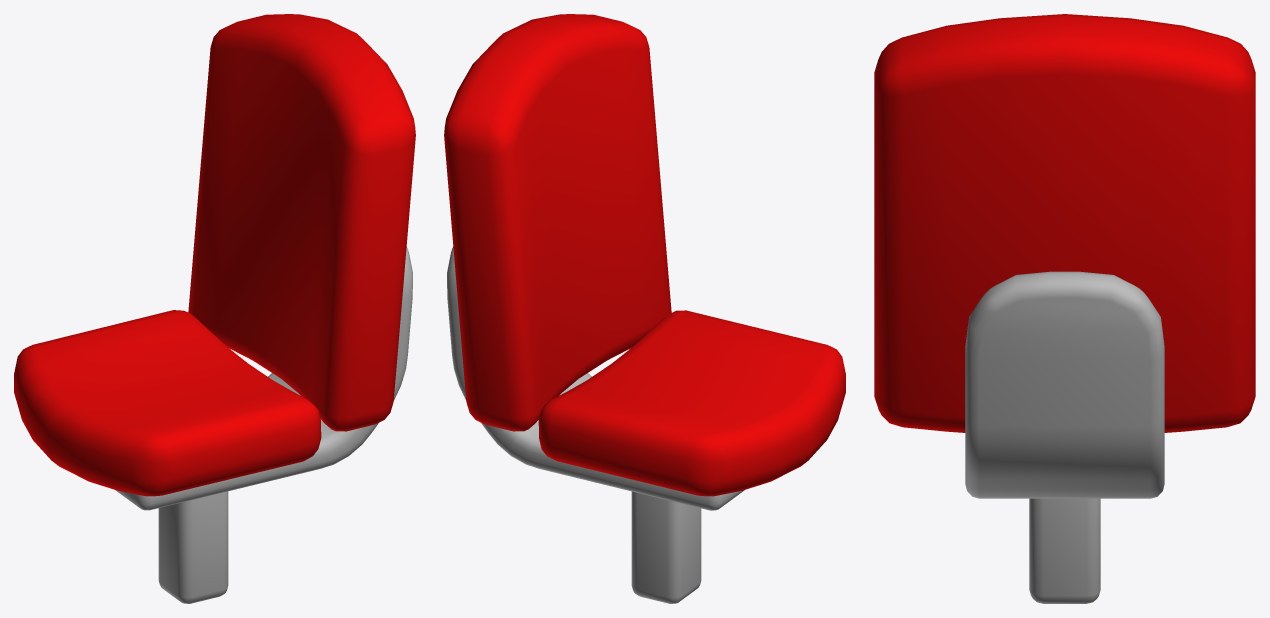
The model's file is Seat 1.fbx.
3 renders of one model, left to right at view 1: azimuth 30°, elevation 25°; view 2: azimuth 150°, elevation 25°; view 3: azimuth 270°, elevation 25°, orthographic. The views are drawn at different scales.
Parts seen in each view (by area): view 1: Seat 1; view 2: Seat 1; view 3: Seat 1.
Part boxes in pixels (x1,y1,x2,y2): Seat 1: [14, 14, 415, 603]; Seat 1: [444, 14, 845, 603]; Seat 1: [874, 14, 1255, 603].
Bounding box in the file's own units: 68.99 × 104 × 54.96.
